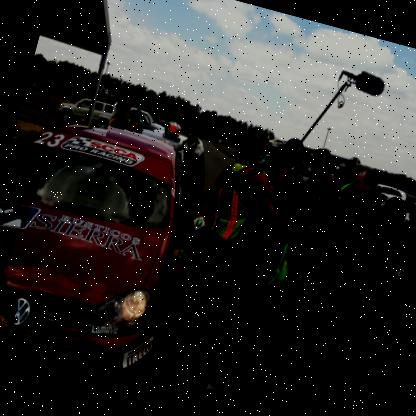Car: (0, 101, 280, 415), (56, 92, 114, 137)
